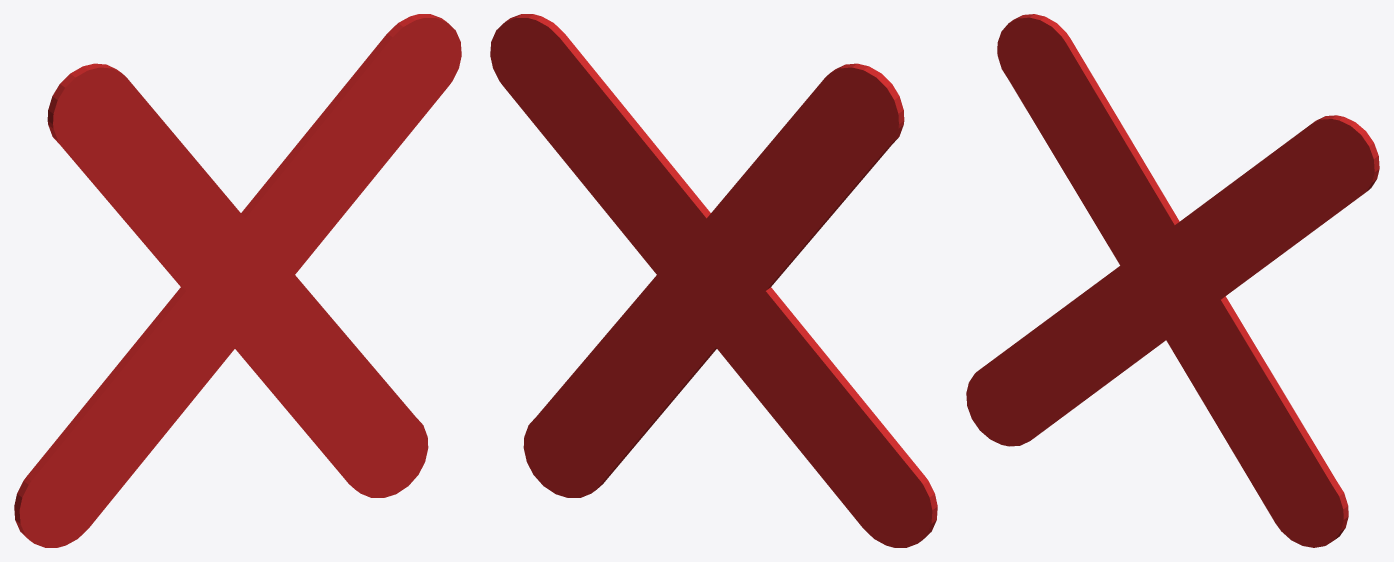
File: converted_link2_22_d12626ff.obj
The picture shows the model from 3 angles, left to right: view 1: azimuth 30°, elevation 25°; view 2: azimuth 150°, elevation 25°; view 3: azimuth 330°, elevation 25°; orthographic projection. The views are drawn at different scales.
Size of the model in its own units: 0.00475 by 0.00513 by 0.0001.
